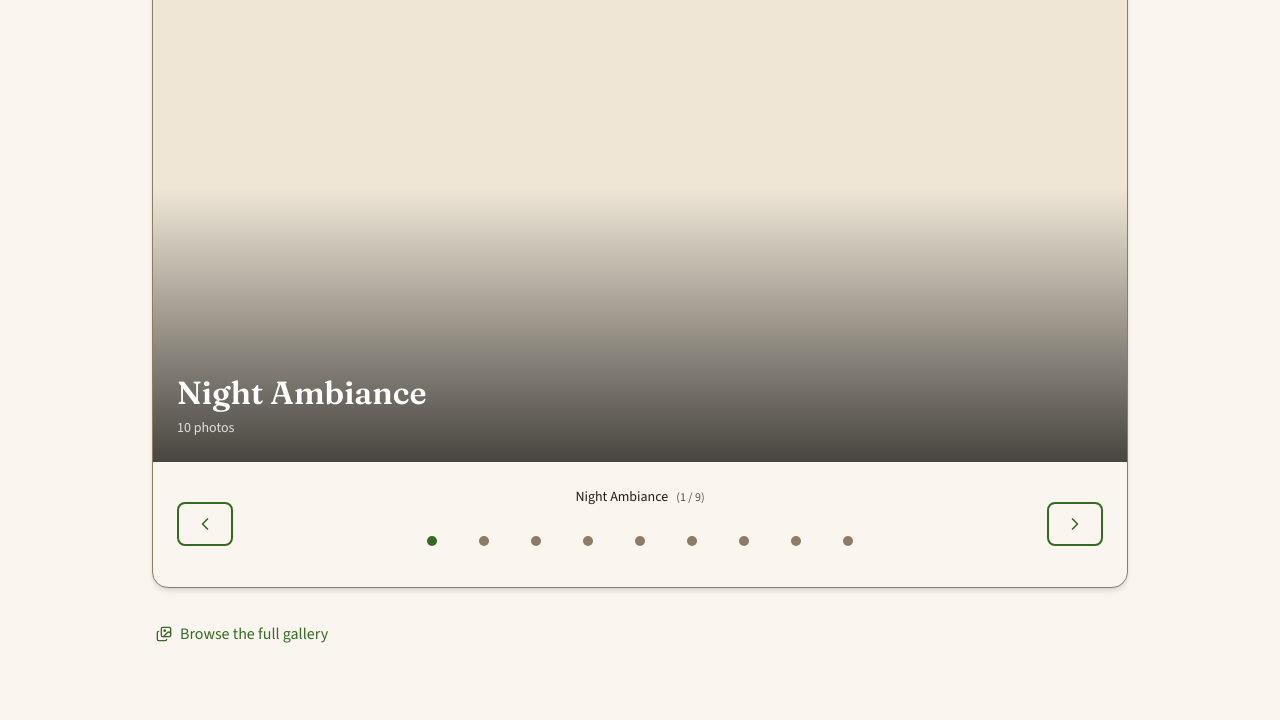
Test case: VirtualTour › advances to the next category on Next click (Req 6.6)
(page scrolled)
Expected: the text "Night Ambiance" is shown, 177,373 -> 427,412
Click the button named "next category": coordinates (1075, 524) 1047,502 -> 1103,546
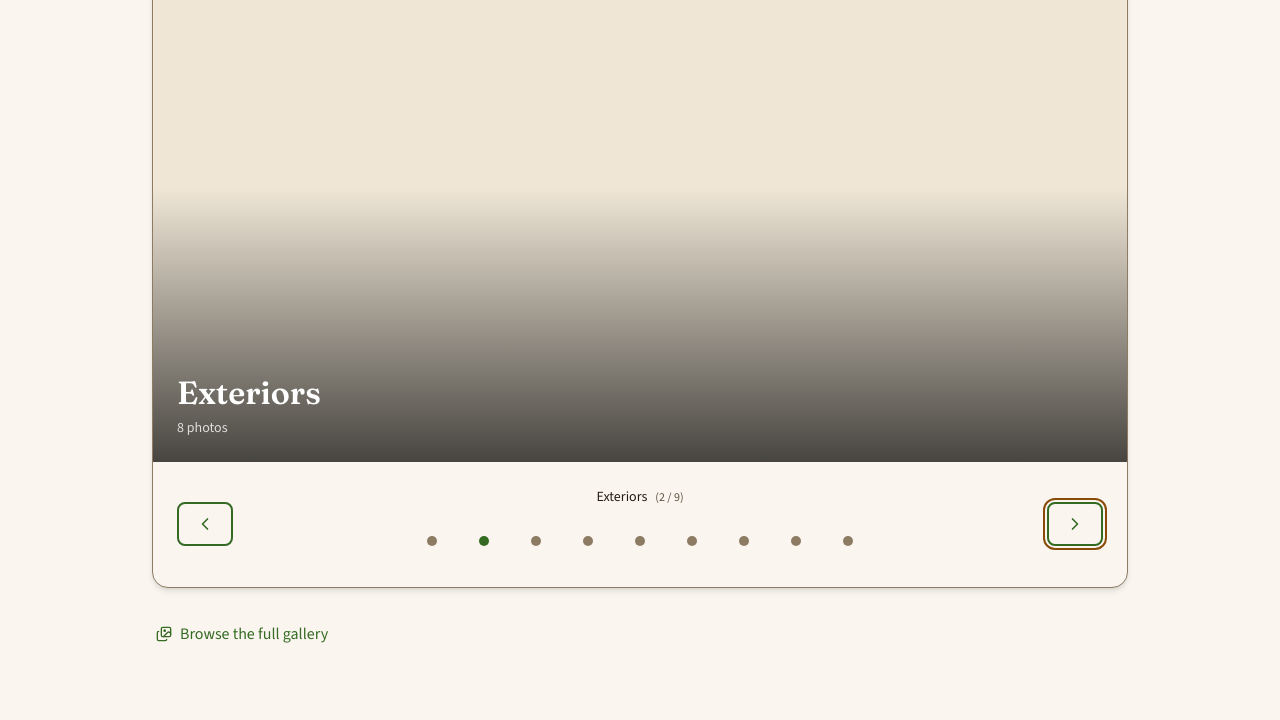
Expected: the text "Exteriors" is shown, 177,373 -> 321,412
